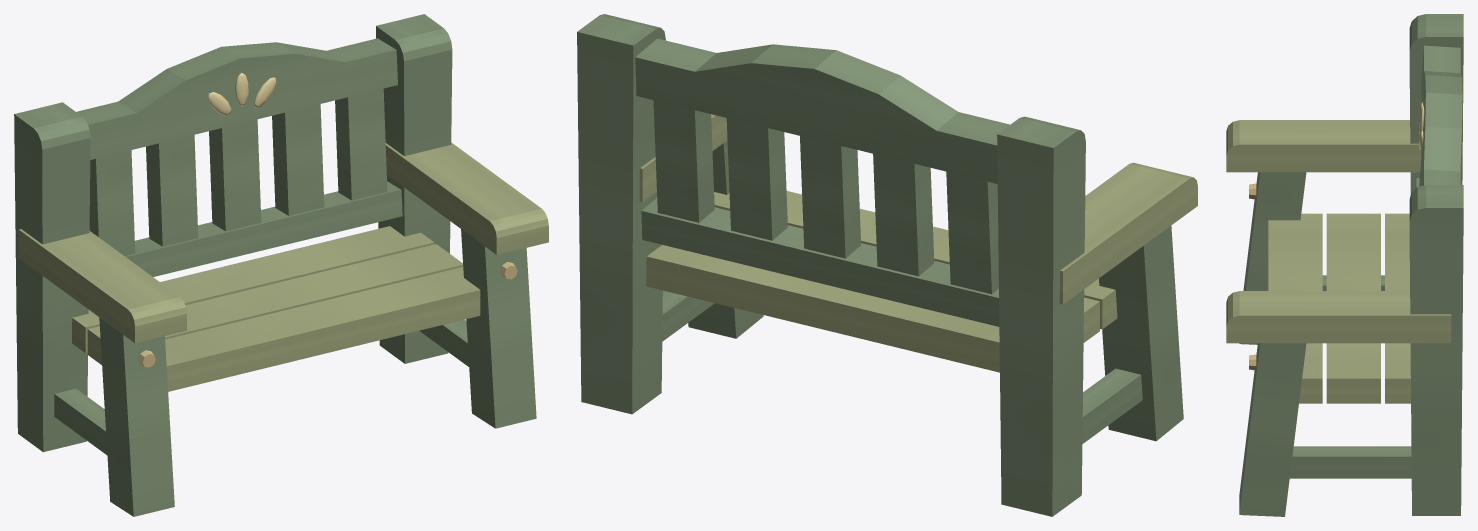
File: a07_forest_bench.glb
The picture shows the model from 3 angles, left to right: view 1: azimuth 30°, elevation 25°; view 2: azimuth 150°, elevation 25°; view 3: azimuth 270°, elevation 25°; orthographic projection. The views are drawn at different scales.
Visible parts, largest first — view 1: 左后腿兼靠背立柱, 靠背顶部弧板, 座面板 3, 右后腿兼靠背立柱, 左前腿, 右前腿, 左扶手, 右扶手, 靠背下横梁, 座面板 2, 座面板 1, 靠背竖条 2 (+6 smaller); view 2: 左后腿兼靠背立柱, 右后腿兼靠背立柱, 靠背顶部弧板, 座面板 1, 靠背下横梁, 左前腿, 左扶手, 靠背竖条 5, 靠背竖条 2, 靠背竖条 3, 靠背竖条 4, 靠背竖条 1 (+6 smaller); view 3: 右后腿兼靠背立柱, 右扶手, 左扶手, 右前腿, 座面板 2, 靠背顶部弧板, 座面板 3, 右腿间横撑, 左前腿, 座面板 1, 左后腿兼靠背立柱.
Part boxes in pixels (x1,y1,x2,y2): 左后腿兼靠背立柱: [14, 102, 90, 452]; 靠背顶部弧板: [76, 38, 397, 159]; 座面板 3: [165, 267, 480, 391]; 右后腿兼靠背立柱: [376, 14, 452, 363]; 左前腿: [99, 317, 174, 516]; 右前腿: [461, 229, 536, 428]; 左扶手: [18, 229, 186, 343]; 右扶手: [385, 142, 548, 254]; 靠背下横梁: [124, 181, 402, 276]; 座面板 2: [87, 244, 463, 364]; 座面板 1: [72, 226, 434, 353]; 靠背竖条 2: [146, 134, 198, 246]; 左后腿兼靠背立柱: [997, 116, 1085, 516]; 右后腿兼靠背立柱: [577, 14, 665, 414]; 靠背顶部弧板: [635, 38, 1009, 183]; 座面板 1: [646, 245, 999, 372]; 靠背下横梁: [641, 197, 999, 326]; 左前腿: [1099, 226, 1183, 441]; 左扶手: [1059, 162, 1197, 304]; 靠背竖条 5: [653, 100, 714, 222]; 靠背竖条 2: [873, 153, 934, 276]; 靠背竖条 3: [800, 136, 860, 258]; 靠背竖条 4: [726, 118, 787, 240]; 靠背竖条 1: [946, 171, 998, 294]; 右后腿兼靠背立柱: [1409, 185, 1463, 515]; 右扶手: [1226, 291, 1451, 343]; 左扶手: [1226, 120, 1421, 172]; 右前腿: [1239, 343, 1306, 516]; 座面板 2: [1326, 213, 1380, 403]; 靠背顶部弧板: [1421, 45, 1462, 185]; 座面板 3: [1268, 213, 1322, 403]; 右腿间横撑: [1289, 446, 1411, 478]; 左前腿: [1239, 172, 1306, 344]; 座面板 1: [1385, 213, 1410, 403]; 左后腿兼靠背立柱: [1409, 14, 1463, 194].
Size of the model in its own units: 1.51 by 1.19 by 0.7749.
Materials: 4 (2 with a texture image).
